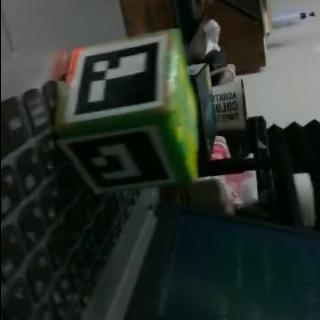armor: (70, 36, 166, 122), (60, 128, 174, 194)
robot: (52, 29, 198, 197)
